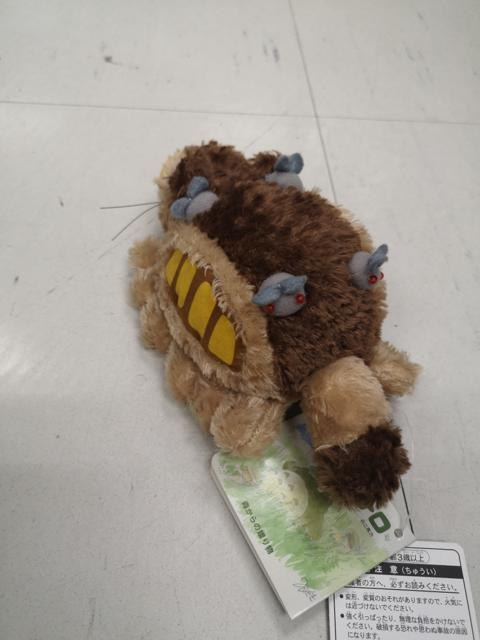nekobus: (105, 125, 430, 517)
